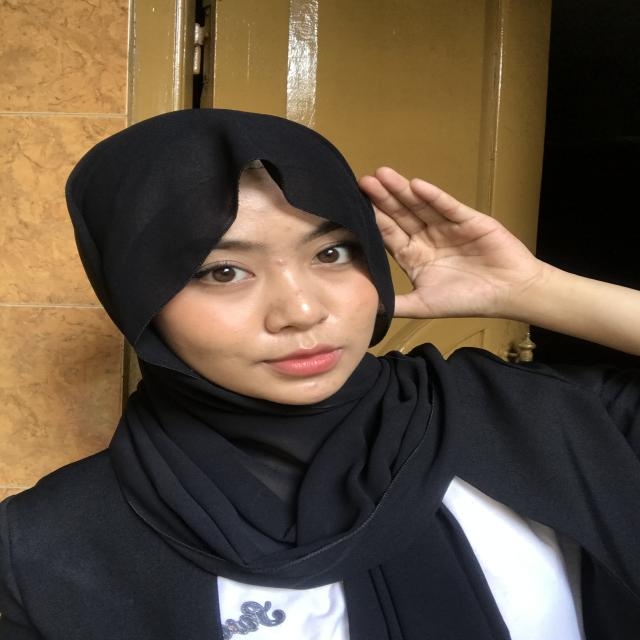mendengar: (345, 159, 521, 340)
